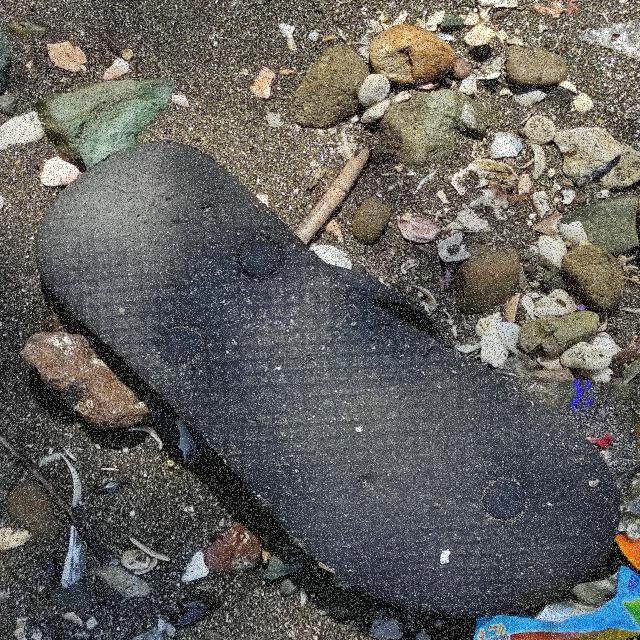rubber_waste: (37, 142, 621, 621)
